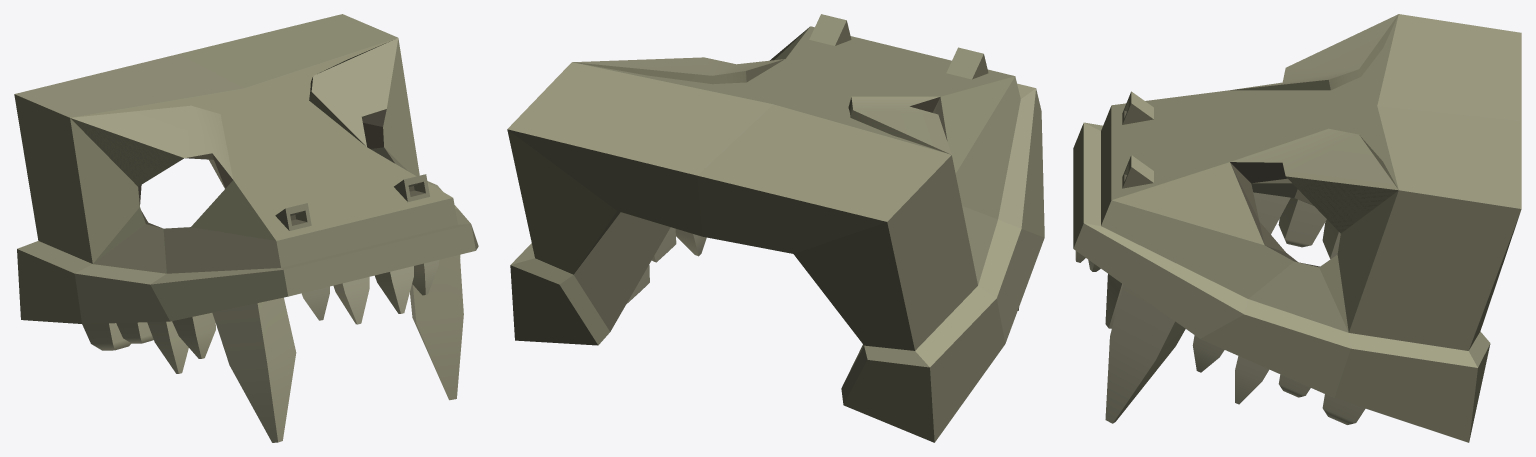
File: SF_Bld_Goblin_Skull_01.fbx
3 renders of one model, left to right at view 1: azimuth 30°, elevation 25°; view 2: azimuth 150°, elevation 25°; view 3: azimuth 270°, elevation 25°, orthographic. The views are drawn at different scales.
Parts seen in each view (by area): view 1: SF_Bld_Goblin_Skull_01; view 2: SF_Bld_Goblin_Skull_01; view 3: SF_Bld_Goblin_Skull_01.
Boxes of the visible parts, x1,y1,x2,y2 form: SF_Bld_Goblin_Skull_01: [14, 14, 478, 442]; SF_Bld_Goblin_Skull_01: [507, 14, 1044, 442]; SF_Bld_Goblin_Skull_01: [1073, 14, 1521, 442].
Bounding box in the file's own units: 10.31 × 6.76 × 10.03.
